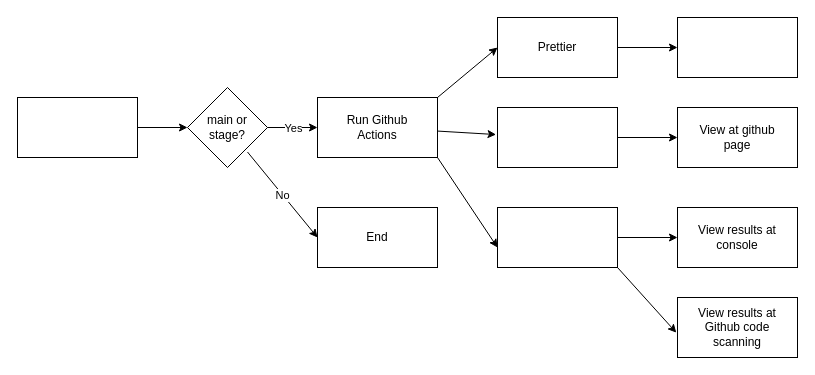
The diagram is 815 pixels wide and 375 high, and some of its shapes have lost their labels. Here are the shapes that lost their labels. From the top down, the box of each, then its label:
(676, 16, 798, 78): Auto create new commit
(16, 96, 138, 158): Push to branch
(496, 106, 618, 168): JSDoc
(496, 206, 618, 268): Codacy
